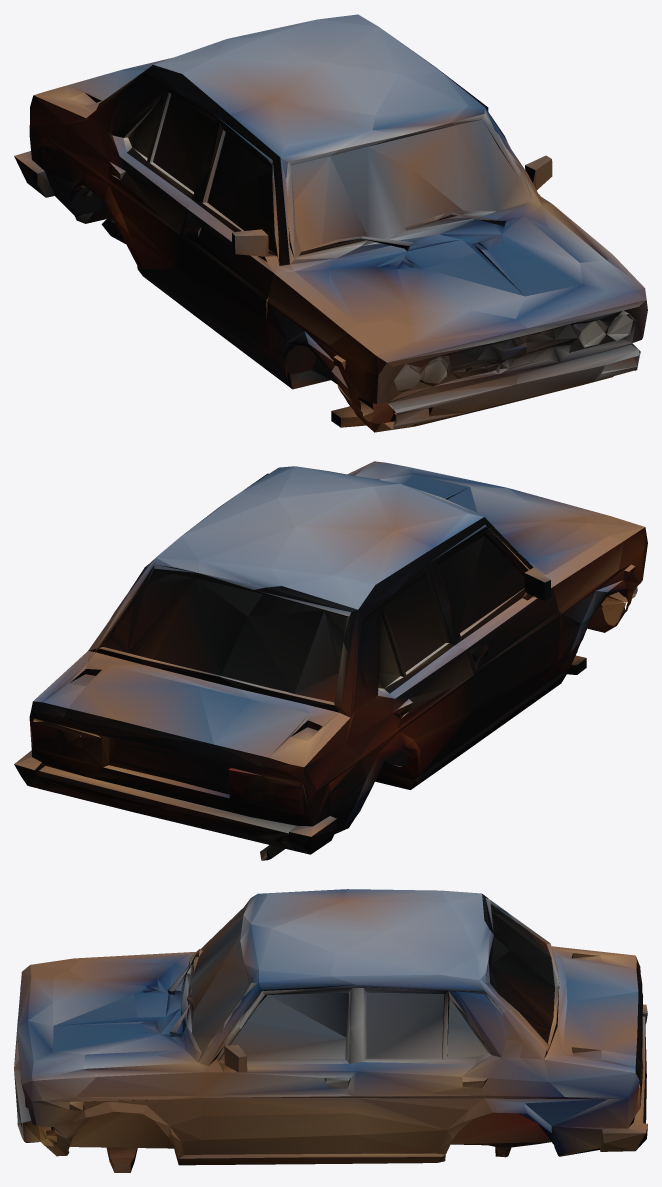
Rendered from tofas_murat_131.glb.
The picture shows the model from 3 angles, top to bottom: view 1: azimuth 30°, elevation 25°; view 2: azimuth 150°, elevation 25°; view 3: azimuth 270°, elevation 25°; orthographic projection. The views are drawn at different scales.
Visible parts, largest first — view 1: Wreck_tofas_murat_131; view 2: Wreck_tofas_murat_131; view 3: Wreck_tofas_murat_131.
Boxes of the visible parts, left/top/right/bottom form: Wreck_tofas_murat_131: left=14, top=14, right=647, bottom=432; Wreck_tofas_murat_131: left=14, top=461, right=647, bottom=860; Wreck_tofas_murat_131: left=14, top=889, right=647, bottom=1172.
Bounding box in the file's own units: 2.16 × 1.44 × 4.23.
